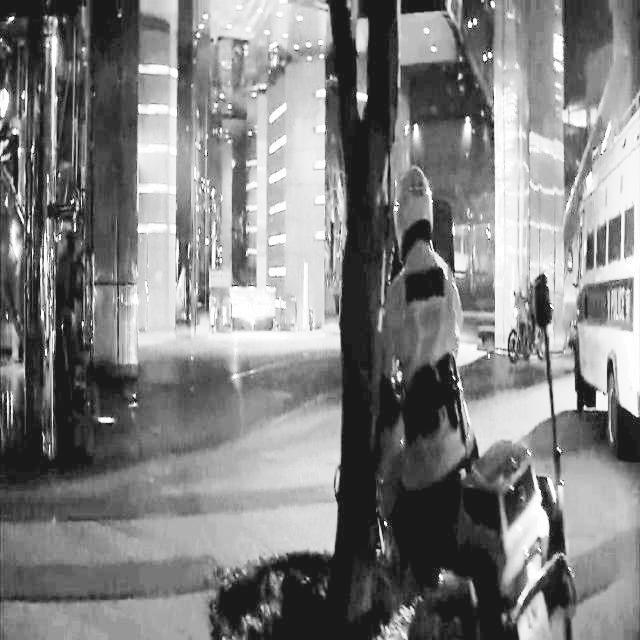Motorcycle: (286, 405, 587, 640), (507, 231, 556, 402)
